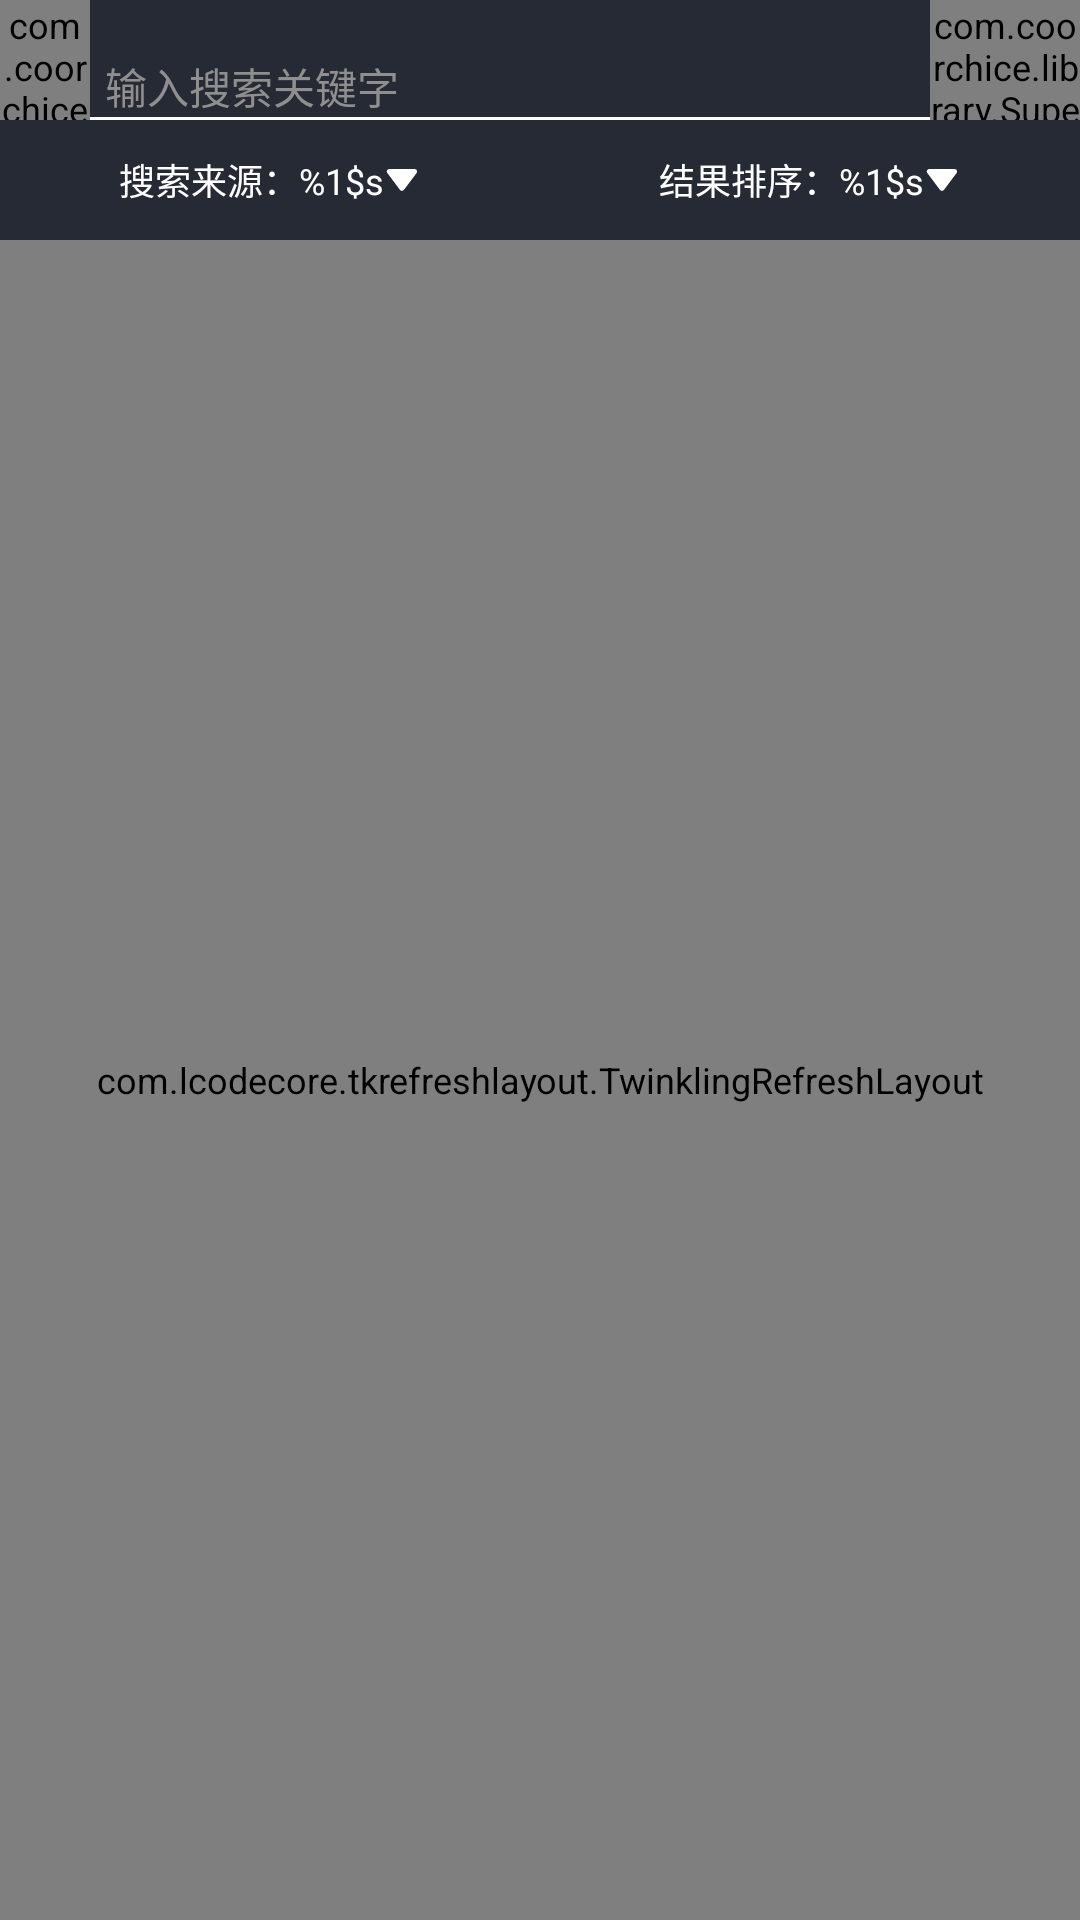

Named icons in this screenshot (1080px×1920px) and their bounding boxes, BBox(x1, y1, x2, y2):
arrow drop down: BBox(386, 169, 417, 191), BBox(926, 169, 957, 191)
